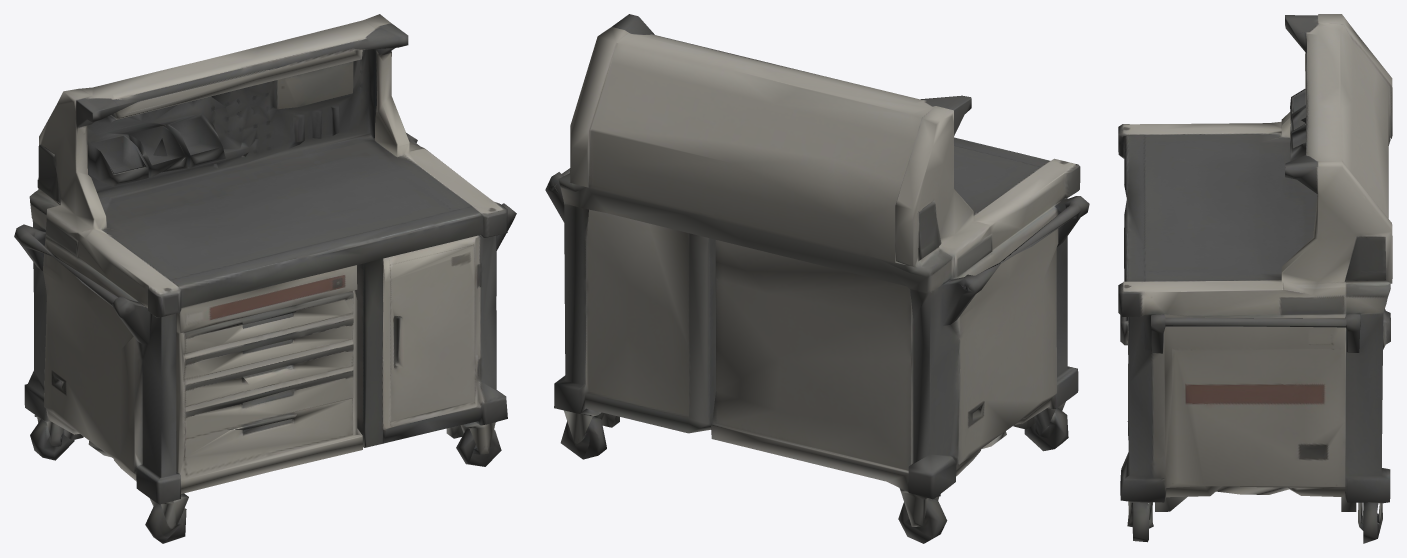
The model's file is ENV_ALL_127_v001_RAW.glb.glb.
3 views of the same model, side by side, from view 1: azimuth 30°, elevation 25°; view 2: azimuth 150°, elevation 25°; view 3: azimuth 270°, elevation 25° (orthographic). The views are drawn at different scales.
Visible parts, largest first — view 1: tripo_node_89ed0285-f251-4782-a8d7-476f9c0f67a9; view 2: tripo_node_89ed0285-f251-4782-a8d7-476f9c0f67a9; view 3: tripo_node_89ed0285-f251-4782-a8d7-476f9c0f67a9.
Boxes of the visible parts, x1,y1,x2,y2 form: tripo_node_89ed0285-f251-4782-a8d7-476f9c0f67a9: (14, 14, 516, 543); tripo_node_89ed0285-f251-4782-a8d7-476f9c0f67a9: (545, 14, 1089, 543); tripo_node_89ed0285-f251-4782-a8d7-476f9c0f67a9: (1118, 14, 1392, 543).
Bounding box in the file's own units: 0.9817 × 0.8926 × 0.5903.
1 material, 1 textured.
